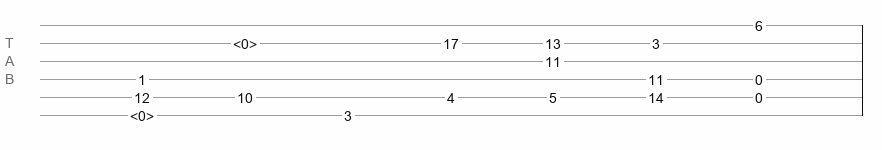0: (755, 90, 763, 100), (755, 72, 763, 82)
1: (138, 72, 146, 82)
10: (237, 90, 253, 100)
11: (545, 54, 561, 64), (648, 72, 664, 82)
12: (134, 90, 150, 100)
13: (545, 36, 561, 46)
14: (648, 90, 664, 100)
17: (443, 36, 459, 46)
3: (344, 108, 352, 118), (652, 36, 660, 46)
4: (447, 90, 455, 100)
5: (549, 90, 557, 100)
6: (755, 18, 763, 28)
harmonic: (130, 108, 154, 118), (233, 36, 257, 46)
